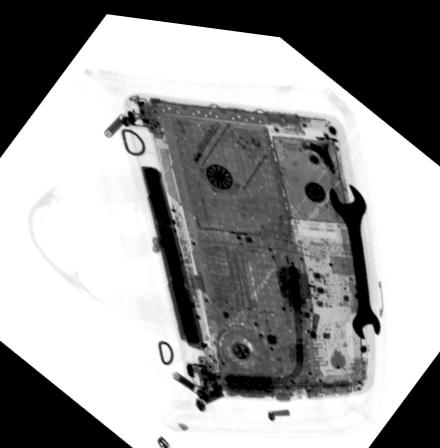Wrench: (327, 171, 384, 331)
